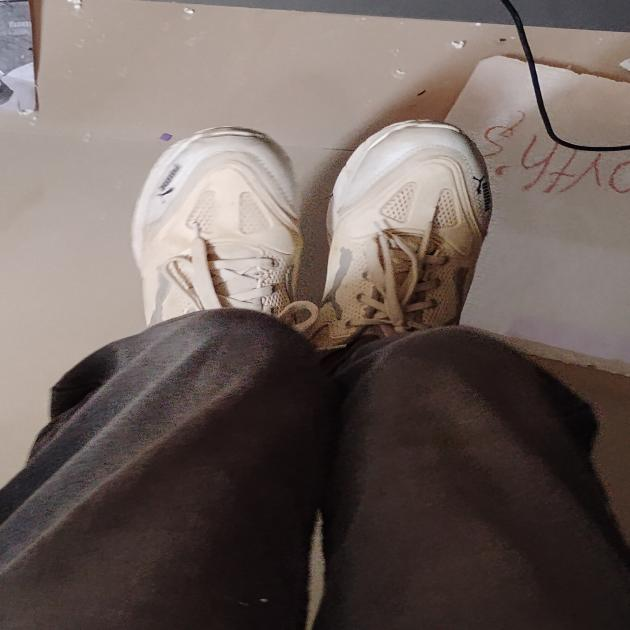shoes: (86, 83, 585, 454)
